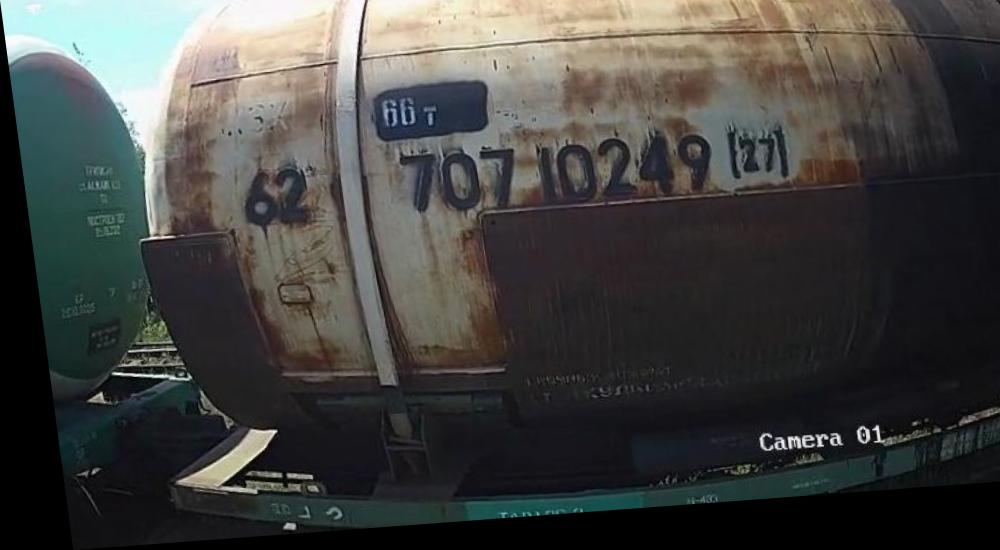Wagon-number: (393, 138, 714, 223)
